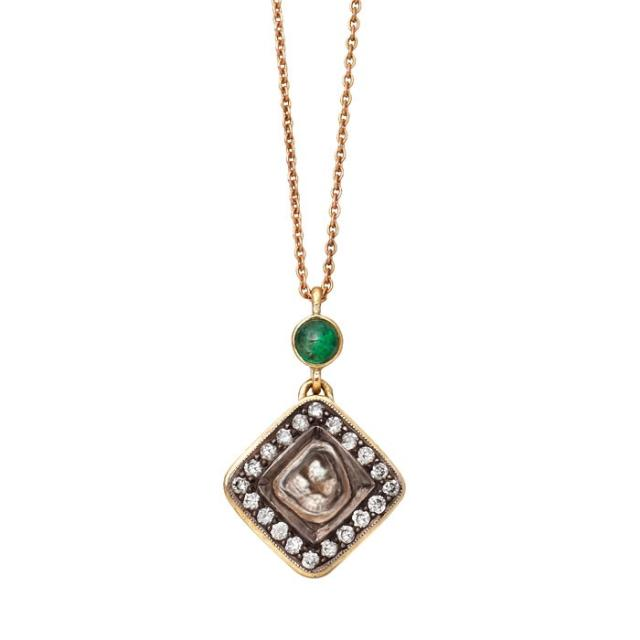missing gem: (283, 449, 344, 515)
